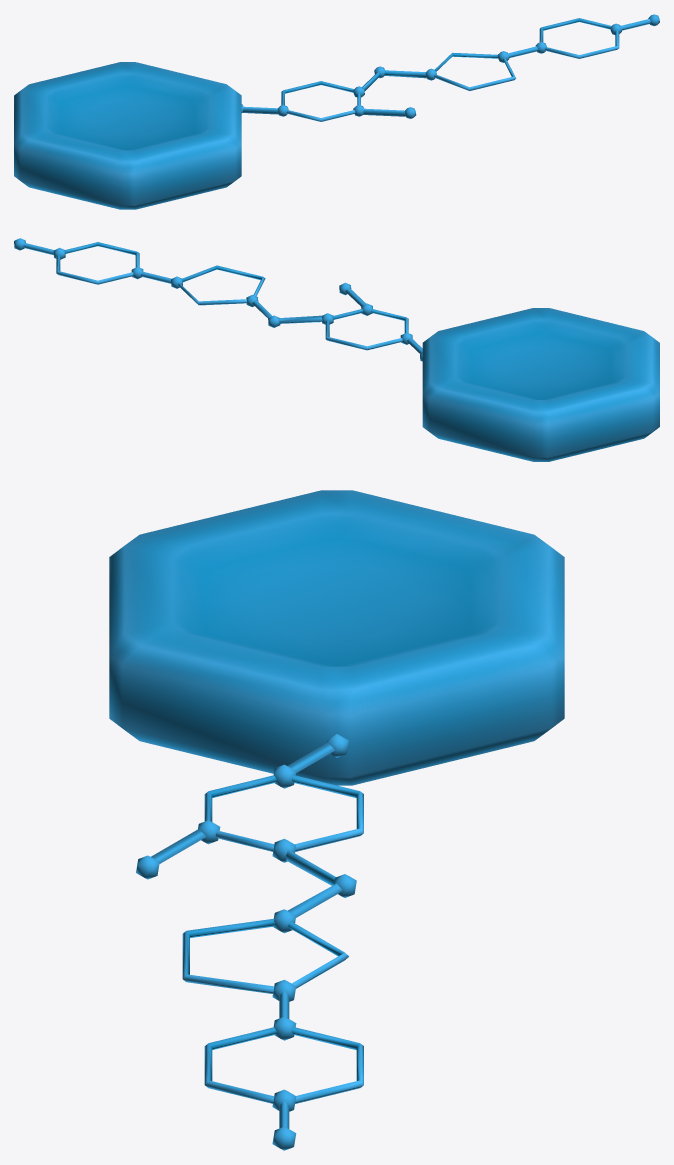
The model's file is MSH_Invokana.fbx.
The picture shows the model from 3 angles, top to bottom: view 1: azimuth 30°, elevation 25°; view 2: azimuth 150°, elevation 25°; view 3: azimuth 270°, elevation 25°; orthographic projection. The views are drawn at different scales.
Parts seen in each view (by area): view 1: MSH_Invokana; view 2: MSH_Invokana; view 3: MSH_Invokana.
Boxes of the visible parts, bbox=[...] form: MSH_Invokana: bbox=[14, 14, 659, 209]; MSH_Invokana: bbox=[14, 238, 659, 461]; MSH_Invokana: bbox=[109, 490, 564, 1150].
Size of the model in its own units: 0.5463 by 0.1715 by 0.0396.
